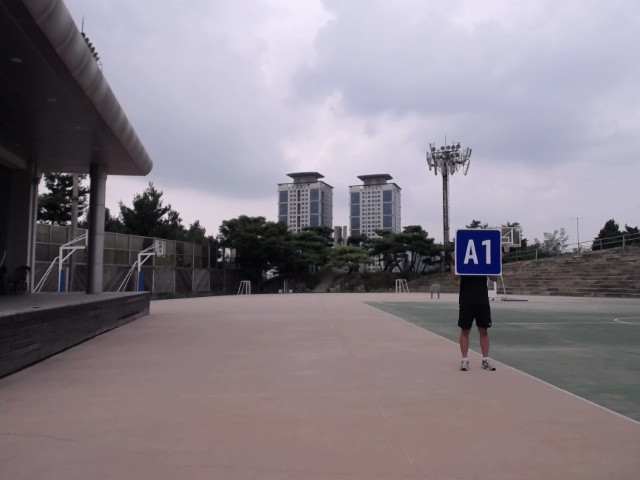delivery_a1: (456, 230, 501, 274)
